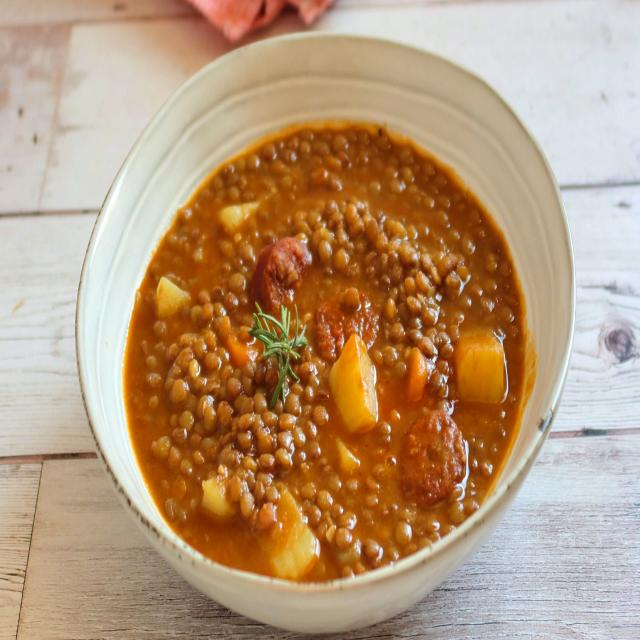lentejas: (122, 101, 534, 593)
